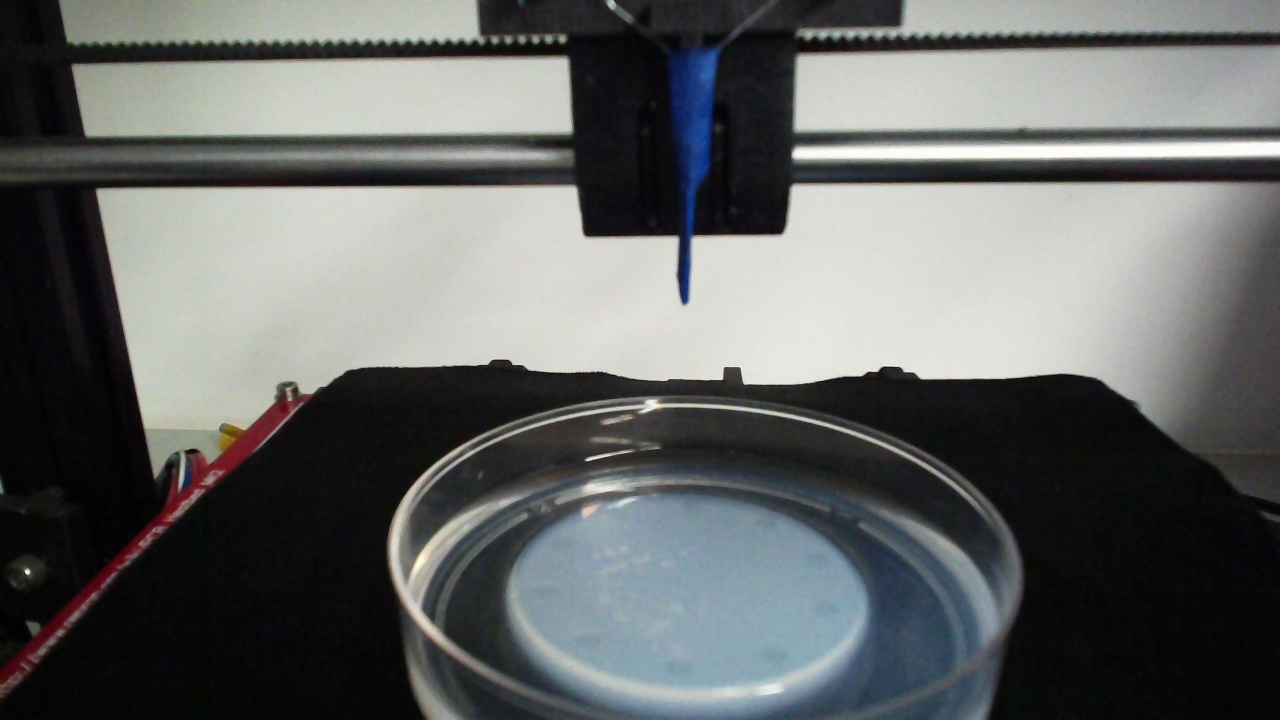groove: (756, 642, 791, 664), (573, 632, 603, 651), (666, 658, 695, 676), (529, 586, 561, 602), (813, 599, 841, 617), (549, 535, 576, 553), (752, 514, 778, 531), (805, 552, 834, 567), (681, 498, 704, 513)
needle: (676, 51, 717, 304)
